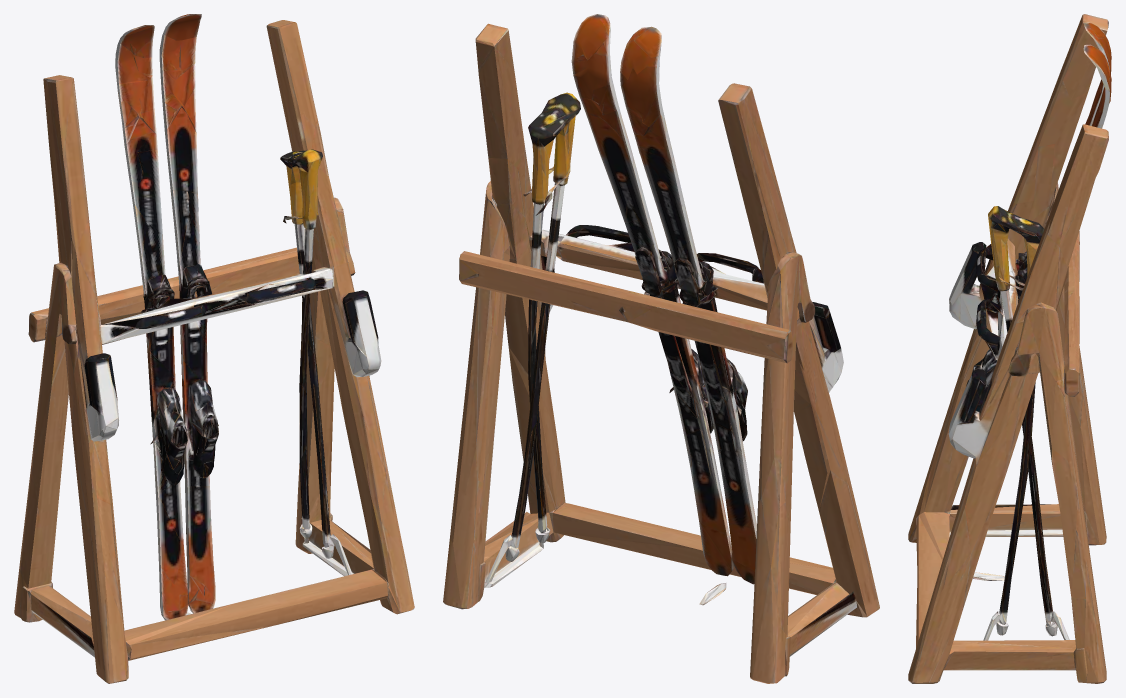
Rendered from ski_rack.glb.
3 views of the same model, side by side, from view 1: azimuth 30°, elevation 25°; view 2: azimuth 150°, elevation 25°; view 3: azimuth 270°, elevation 25° (orthographic). The views are drawn at different scales.
Size of the model in its own units: 1.08 by 1.9 by 0.6139.
Materials: 1 (1 with a texture image).
